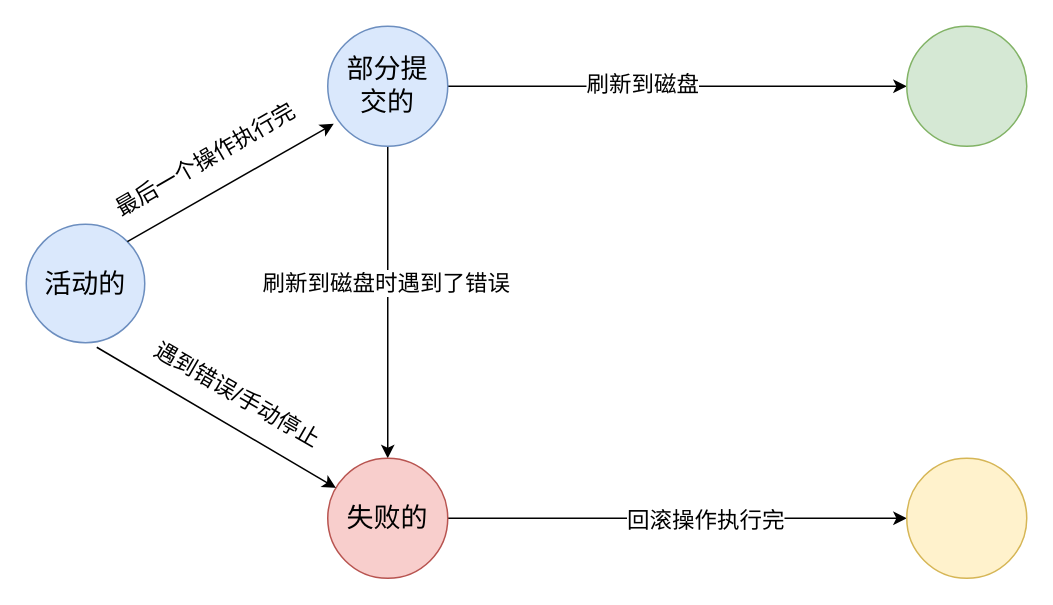
Some shapes in this 1053 by 605 pixel diagram are drawn without their labels. The shapes that lost their labels are listed below. From the top down, each one's centre as x and y in pixels, then its label:
At point (966, 85): "提交的".
At point (966, 517): "中止的".
